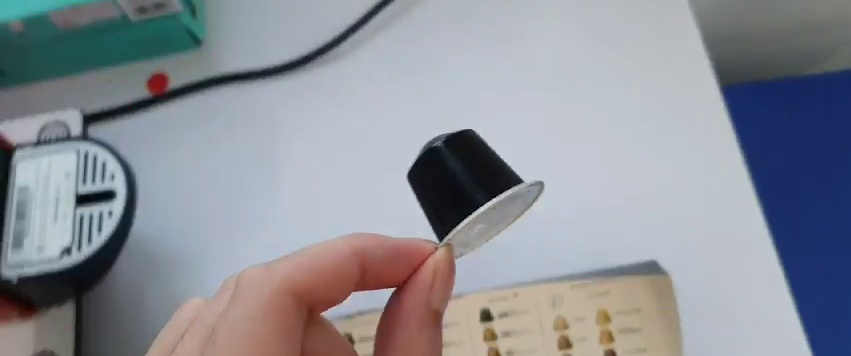capsule_10: (405, 126, 548, 258)
